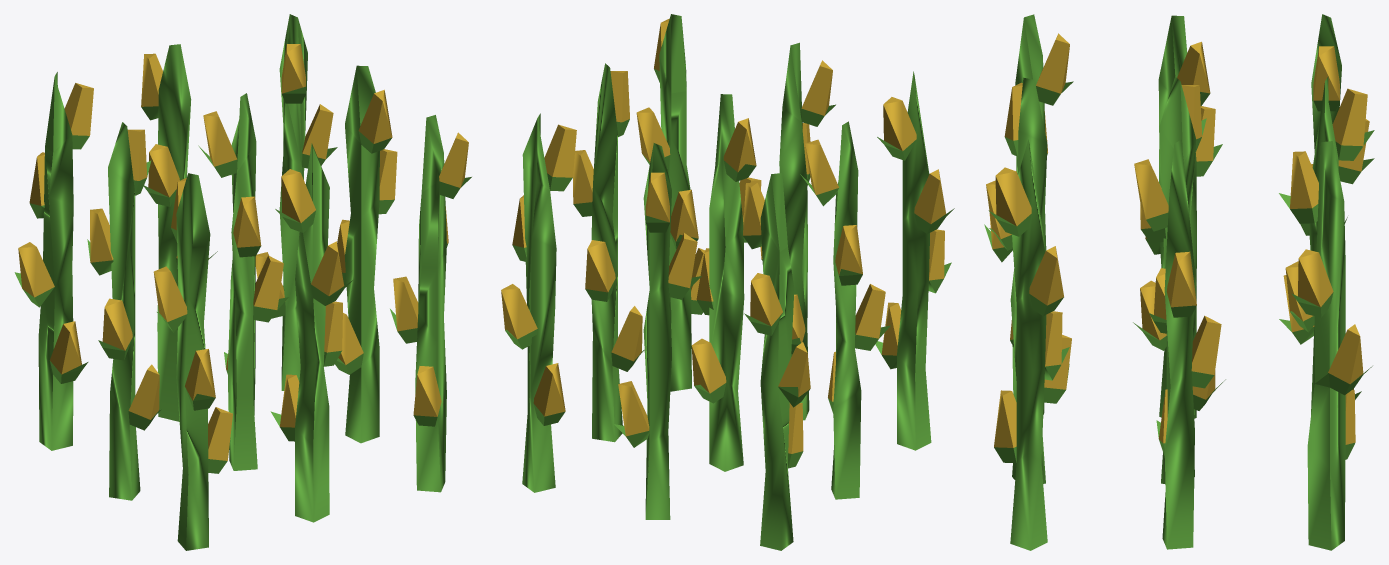
File: sn_corn.glb
3 renders of one model, left to right at view 1: azimuth 30°, elevation 25°; view 2: azimuth 150°, elevation 25°; view 3: azimuth 270°, elevation 25°, orthographic. The views are drawn at different scales.
Parts seen in each view (by area): view 1: sn_corn; view 2: sn_corn; view 3: sn_corn.
Boxes of the visible parts, box(x1,y1,x2,y2) form: sn_corn: box(14, 14, 471, 550); sn_corn: box(501, 14, 954, 550); sn_corn: box(984, 14, 1374, 550).
Size of the model in its own units: 1.94 by 2.2 by 1.94.
